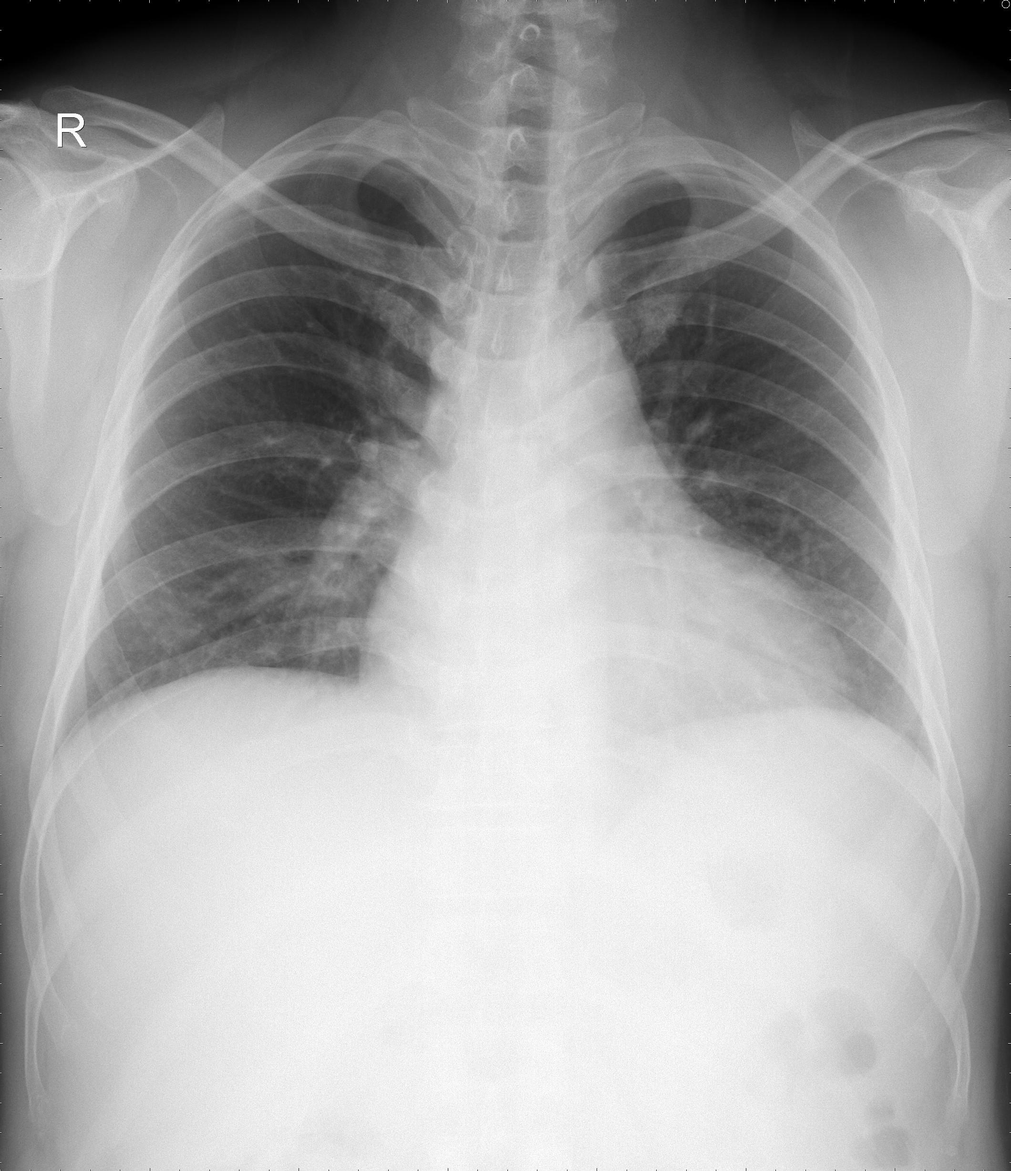Cardiomegaly: (354, 607, 854, 695)
